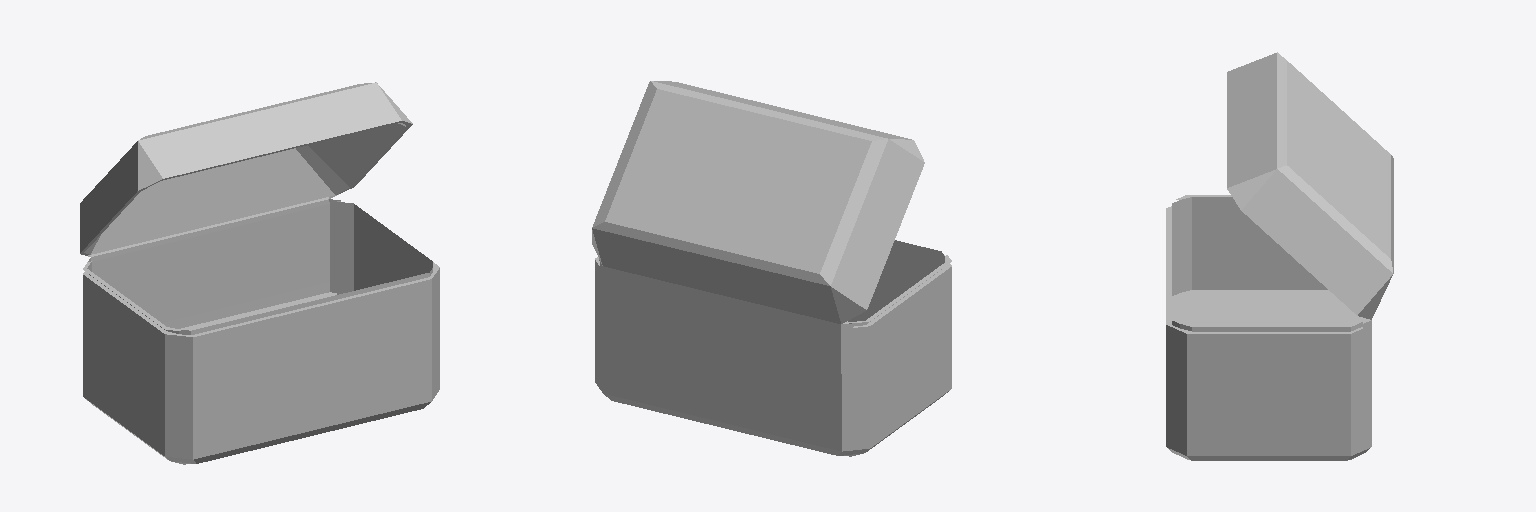
Rendered from lootChestMid.obj.
3 views of the same model, side by side, from view 1: azimuth 30°, elevation 25°; view 2: azimuth 150°, elevation 25°; view 3: azimuth 270°, elevation 25° (orthographic).
Visible parts, largest first — view 1: Opened.001_Cube.001; view 2: Opened.001_Cube.001; view 3: Opened.001_Cube.001.
Part boxes in pixels (x1,y1,x2,y2): Opened.001_Cube.001: (80,82,439,464); Opened.001_Cube.001: (592,81,951,456); Opened.001_Cube.001: (1166,52,1393,460).
Size of the model in its own units: 1.55 by 1.56 by 1.11.